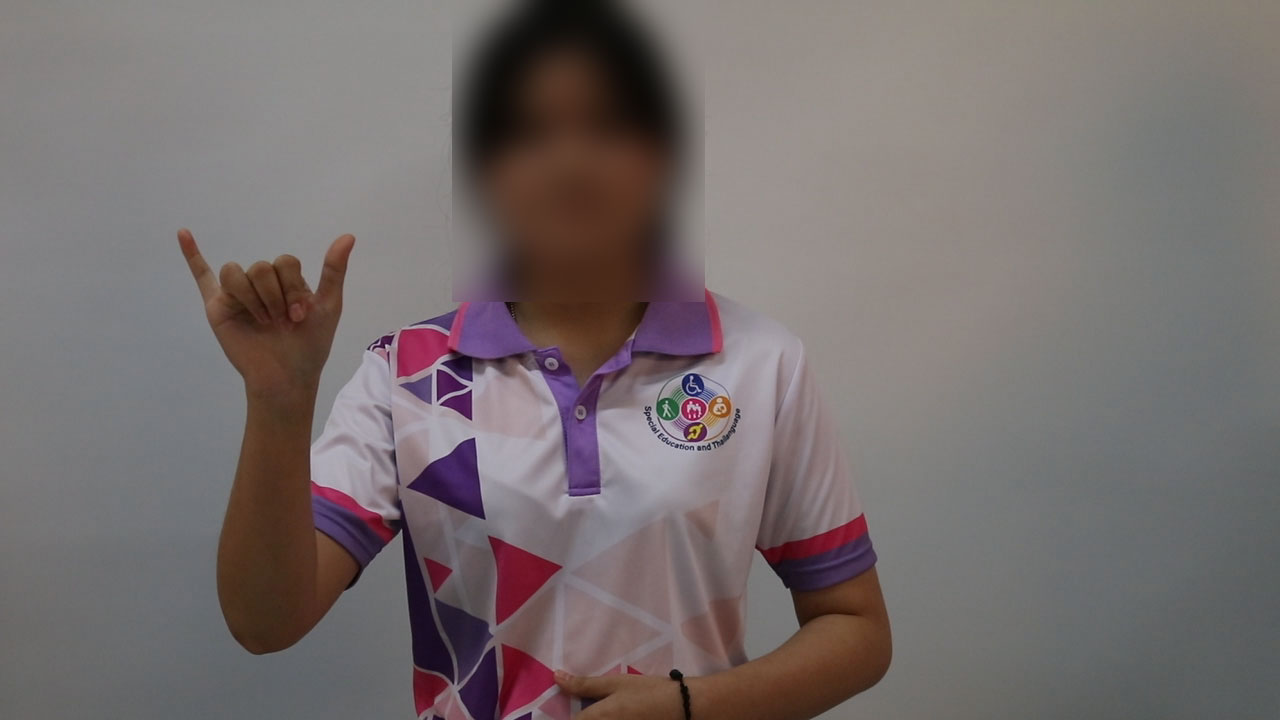yor: (159, 212, 381, 398)
